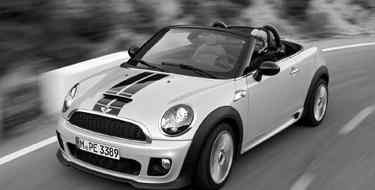car: (57, 19, 331, 190)
